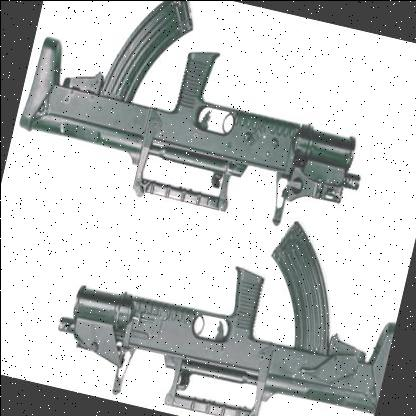rifle: (12, 0, 402, 253), (51, 178, 412, 416)
